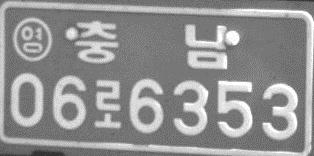0: (10, 71, 45, 128)
3: (170, 80, 209, 136), (261, 82, 298, 141)
5: (216, 78, 253, 138)
6: (128, 77, 165, 134), (52, 74, 87, 131)
로: (94, 79, 123, 131)
영: (11, 16, 53, 63)
충남_D: (73, 19, 230, 70)
